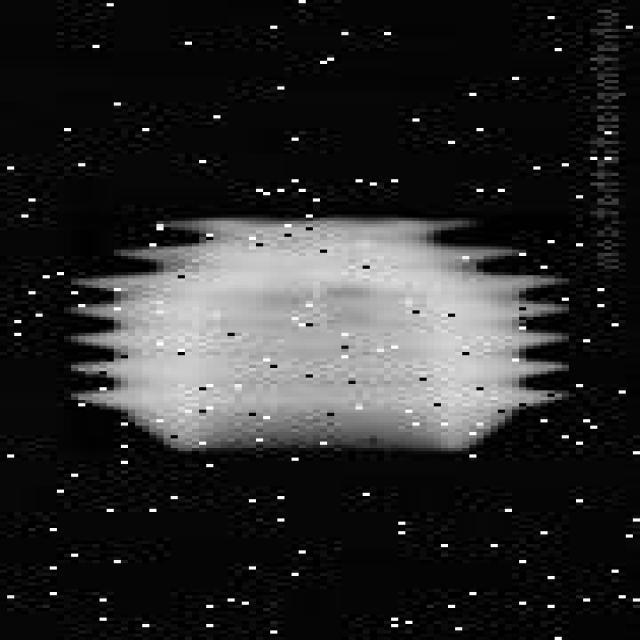OsseoLink Implant: (64, 214, 569, 451)
